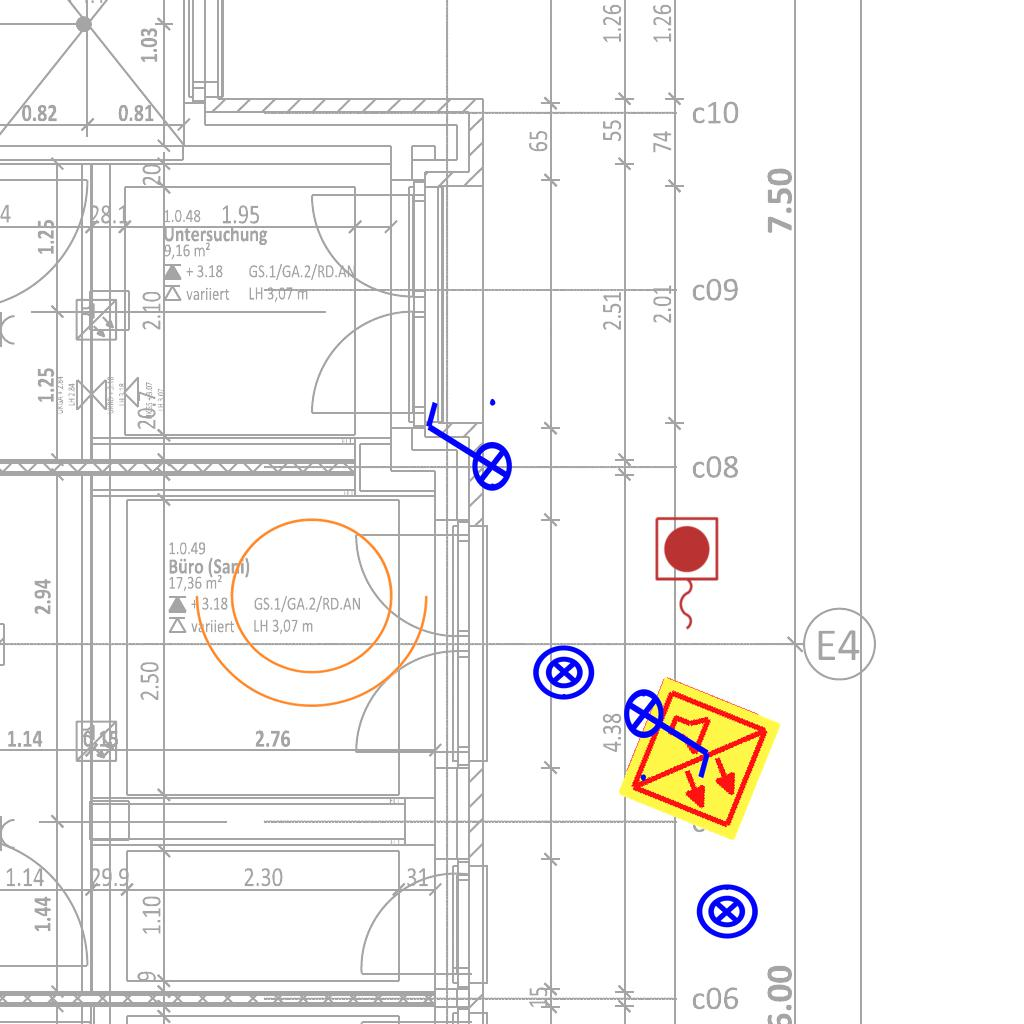Ausschalter_beleuchtet: (418, 393, 514, 505), (622, 675, 718, 787)
OKW_Multisensormelder_(Kombination_optischer_Rauch-Kahlenmonoxid_Waerme-Melder): (613, 673, 785, 845)
Scheinwerfer_fuer_Alarmbeleuchtung: (186, 493, 450, 718)
Taster_beleuchtet: (694, 879, 760, 945), (531, 639, 597, 705)
Zugtaster: (650, 513, 722, 635)
